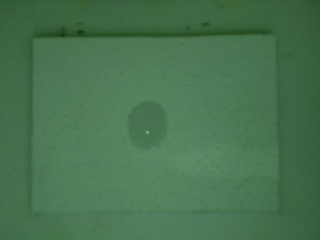Water_detected: (127, 102, 166, 150)
